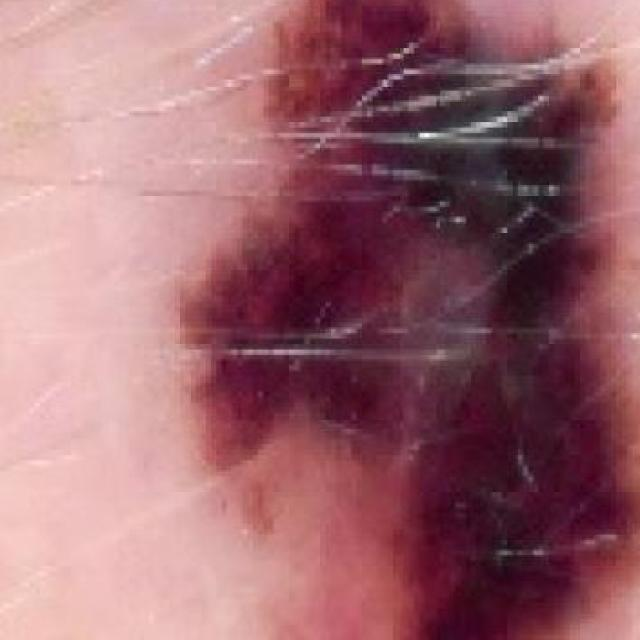MEL: (156, 0, 640, 640)
